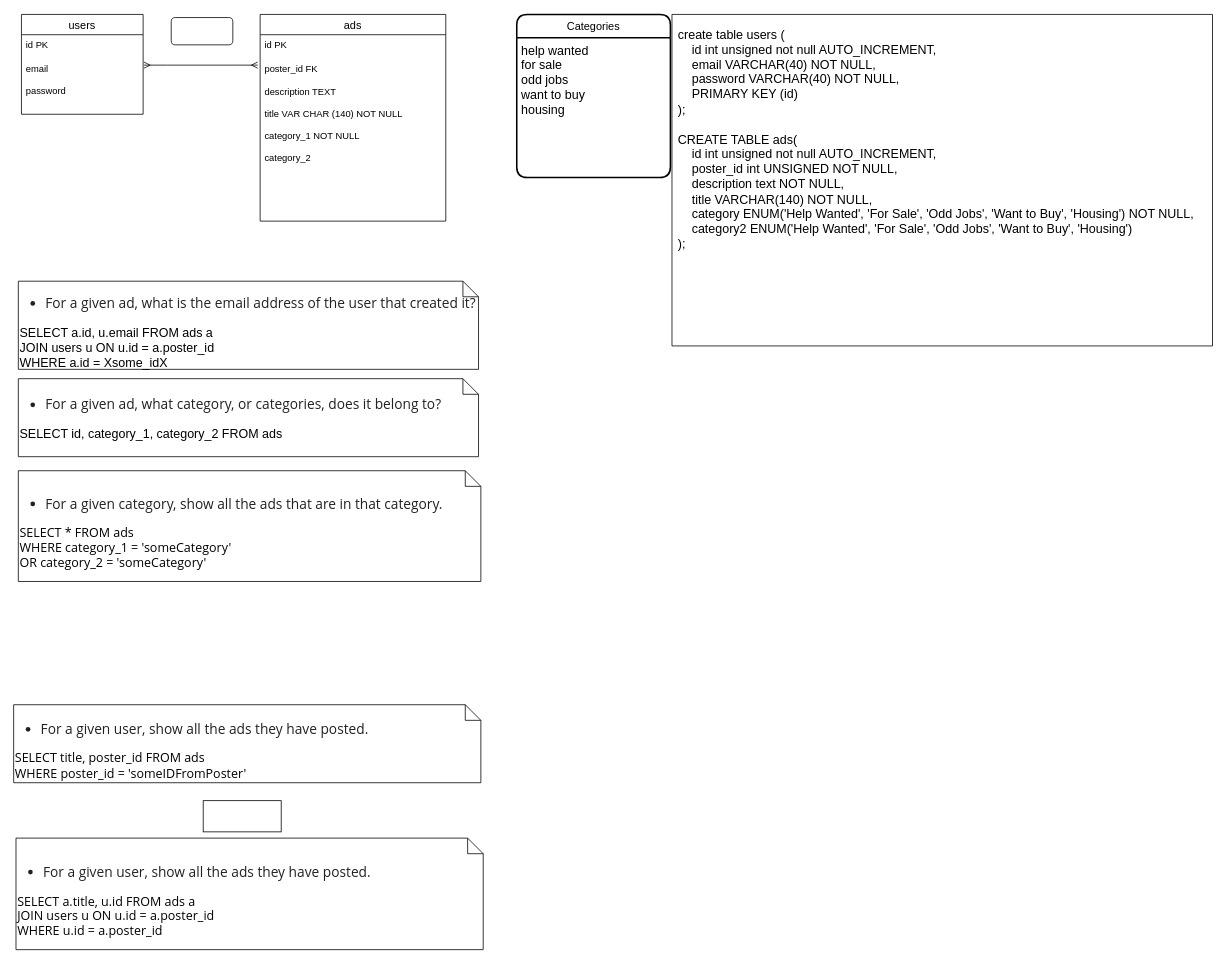
The diagram is 1226 pixels wide and 963 high, and some of its shapes have lost their labels. Here are the shapes that lost their labels. From the top down, the centre of each, then its label:
At pixel 201 31: "MANY TO MANY".
At pixel 241 816: "With a JOIN".
